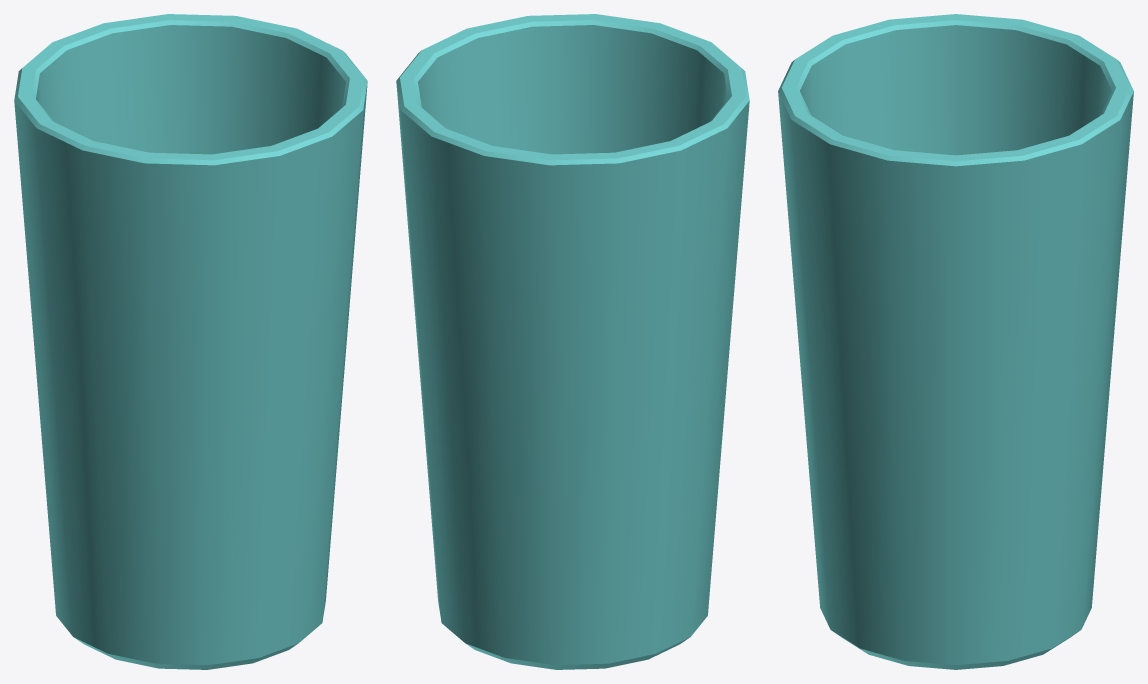
File: SM_Glass.fbx
3 views of the same model, side by side, from view 1: azimuth 30°, elevation 25°; view 2: azimuth 150°, elevation 25°; view 3: azimuth 270°, elevation 25° (orthographic).
Parts seen in each view (by area): view 1: SM_Glass; view 2: SM_Glass; view 3: SM_Glass.
Part boxes in pixels (<box>): SM_Glass: <box>14,14,367,669</box>; SM_Glass: <box>396,14,749,669</box>; SM_Glass: <box>778,14,1133,669</box>.
Bounding box in the file's own units: 12.83 × 21.09 × 12.83.
